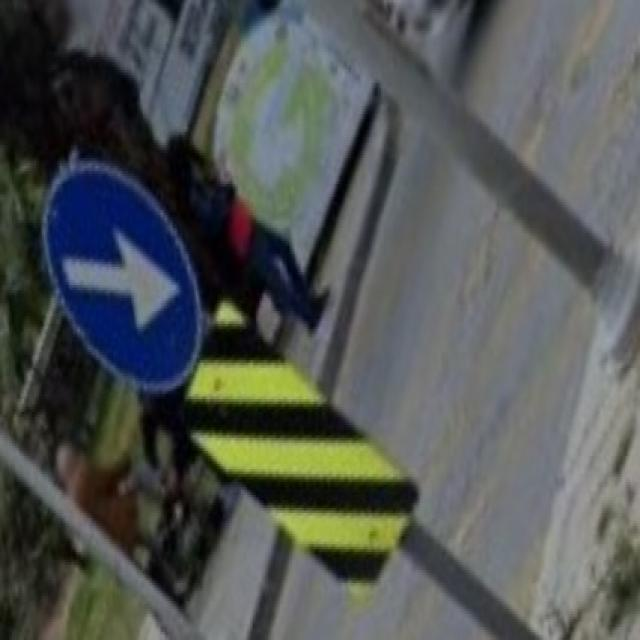Turn Right: (42, 169, 207, 395)
